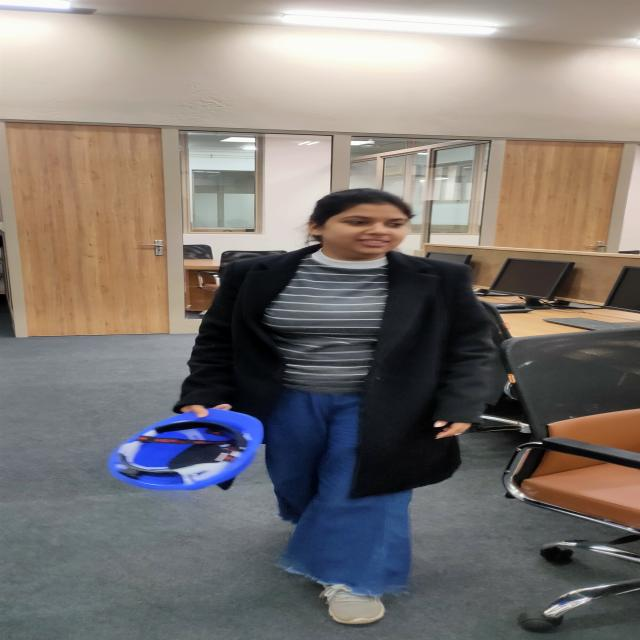unsafe: (190, 188, 504, 625)
